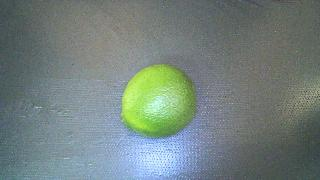EXPORTACION: (121, 65, 197, 138)
